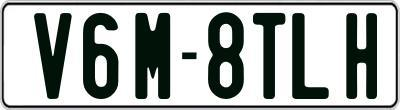6: (83, 10, 122, 97)
8: (208, 12, 245, 99)
H: (344, 13, 381, 102)
L: (290, 11, 331, 100)
M: (132, 11, 168, 100)
T: (250, 13, 286, 103)
V: (31, 12, 73, 98)
